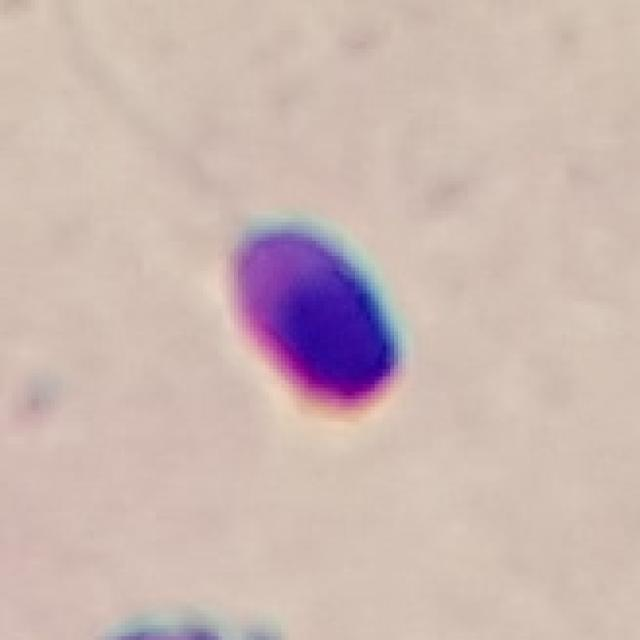normal sperm: (177, 151, 407, 415)
